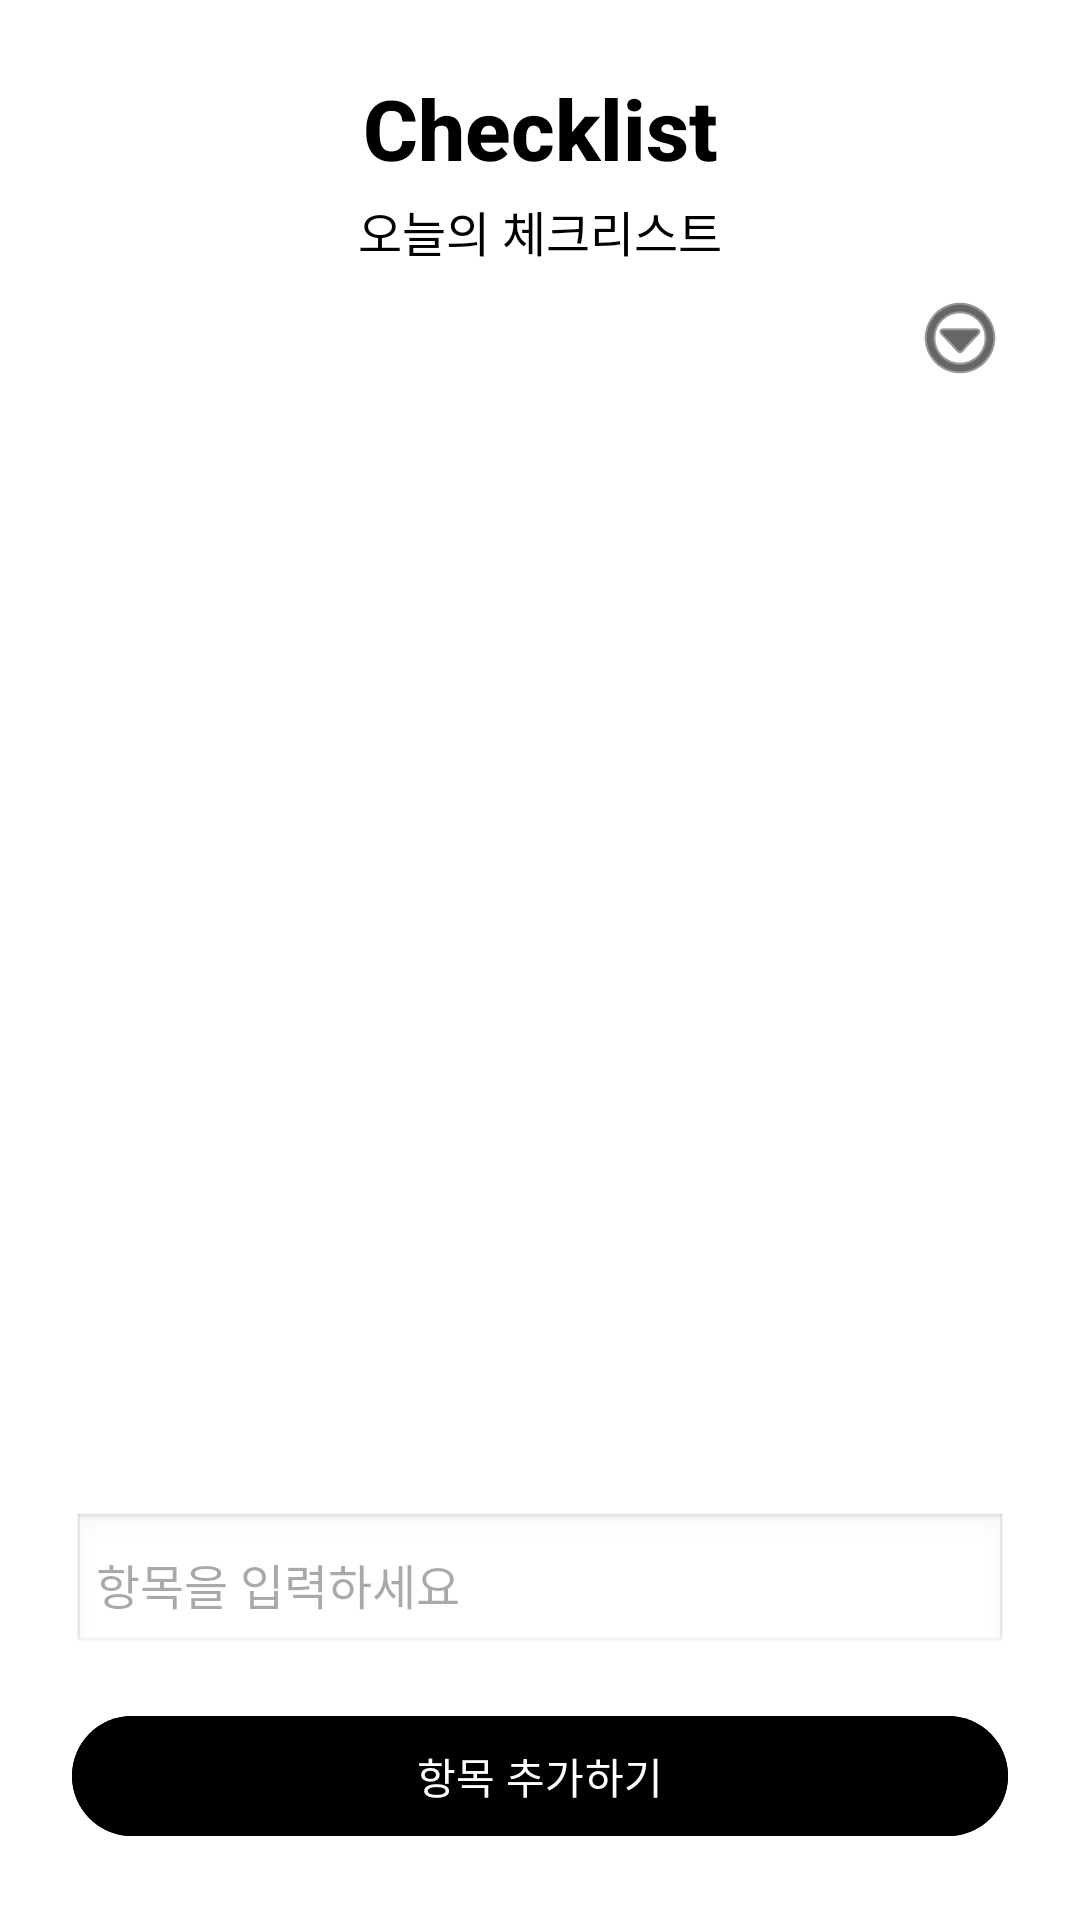

Point at icon controls on the screen. Image size 1080*1920, points as (x=x, y=y).
옵션: (x=960, y=338)
